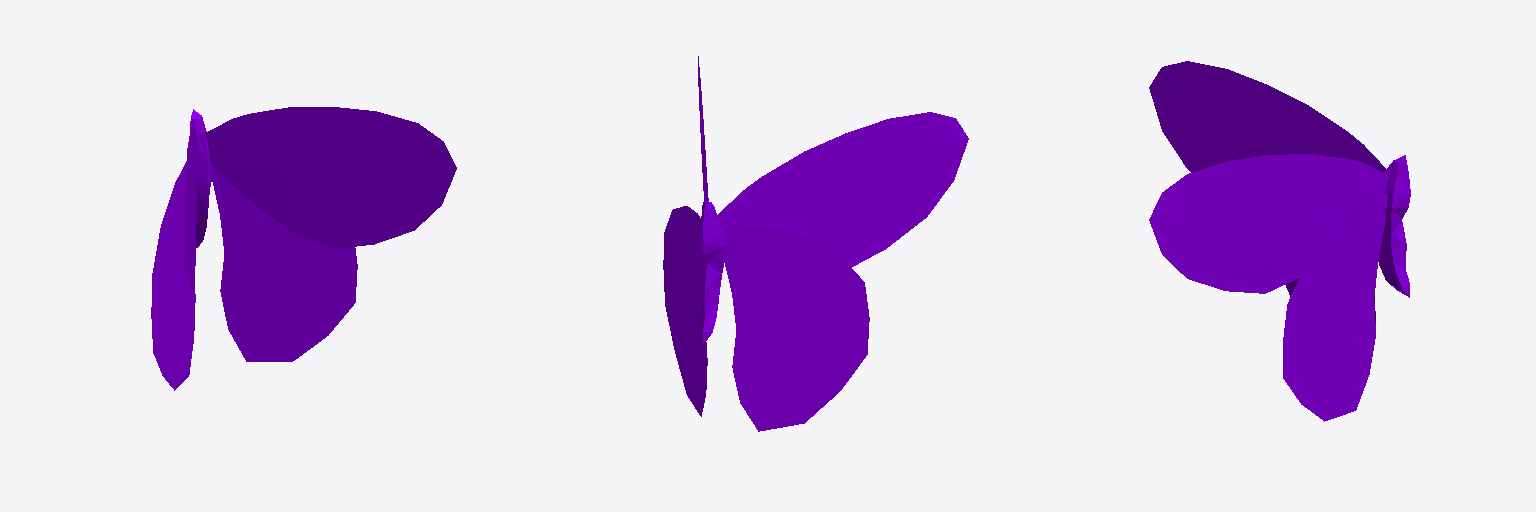
The picture shows the model from 3 angles: view 1: azimuth 30°, elevation 25°; view 2: azimuth 150°, elevation 25°; view 3: azimuth 270°, elevation 25°; orthographic projection.
Visible parts, largest first — view 1: topwings polySurface25, bottomWings polySurface25, body polySurface25; view 2: bottomWings polySurface25, topwings polySurface25, body polySurface25; view 3: topwings polySurface25, bottomWings polySurface25, body polySurface25.
Boxes of the visible parts, <box> form: topwings polySurface25: <box>186,107,456,287</box>; bottomWings polySurface25: <box>151,160,357,390</box>; body polySurface25: <box>187,109,211,247</box>; bottomWings polySurface25: <box>663,206,869,431</box>; topwings polySurface25: <box>698,56,968,267</box>; body polySurface25: <box>698,201,725,344</box>; topwings polySurface25: <box>1149,61,1388,293</box>; bottomWings polySurface25: <box>1283,201,1385,421</box>; body polySurface25: <box>1378,155,1410,297</box>.
Bounding box in the file's own units: 8.5 × 8.44 × 7.11.